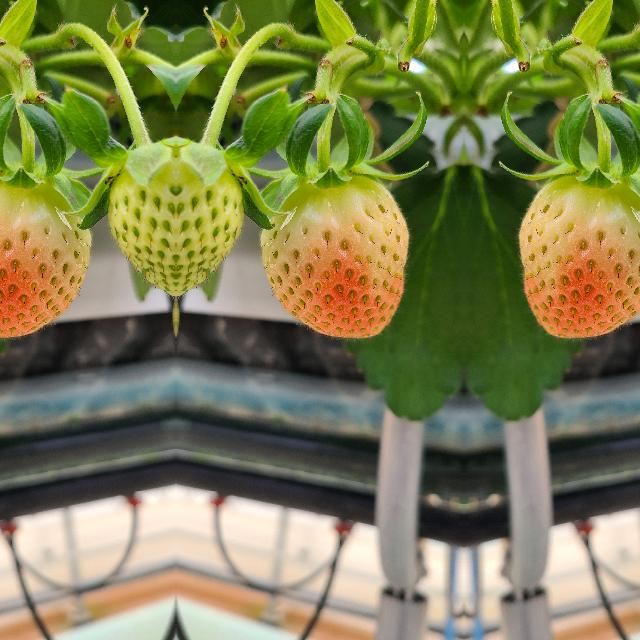Health_25: (102, 140, 176, 302), (175, 140, 248, 302)
Health_50: (259, 175, 407, 337), (519, 175, 640, 337), (0, 175, 91, 337)
